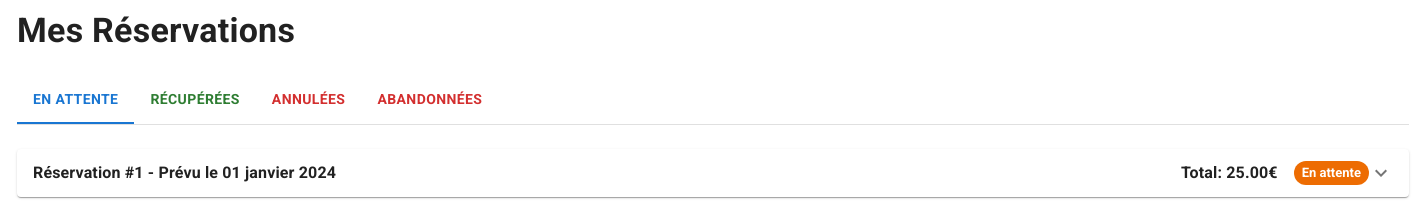
Test case: ReservationsPage › displays correct date format for reservations
The width and height of the screenshot is (1427, 216).
Expected: the text "Réservation #1 - Prévu le 01 janvier 2024" is shown, [33, 161, 336, 185]
Click the tab "Récupérées": (195, 100) [134, 76, 256, 124]
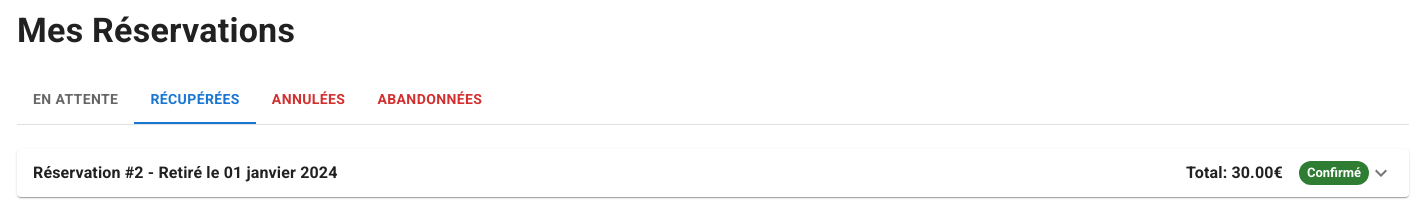
Now the text "Réservation #2 - Retiré le 01 janvier 2024" is shown, box [33, 161, 338, 185]
